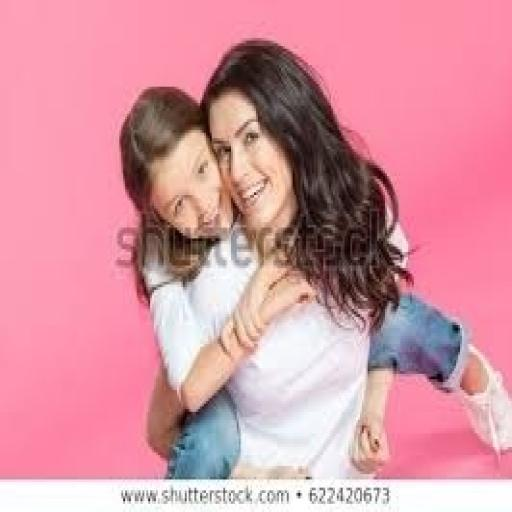hugging: (116, 35, 510, 480)
